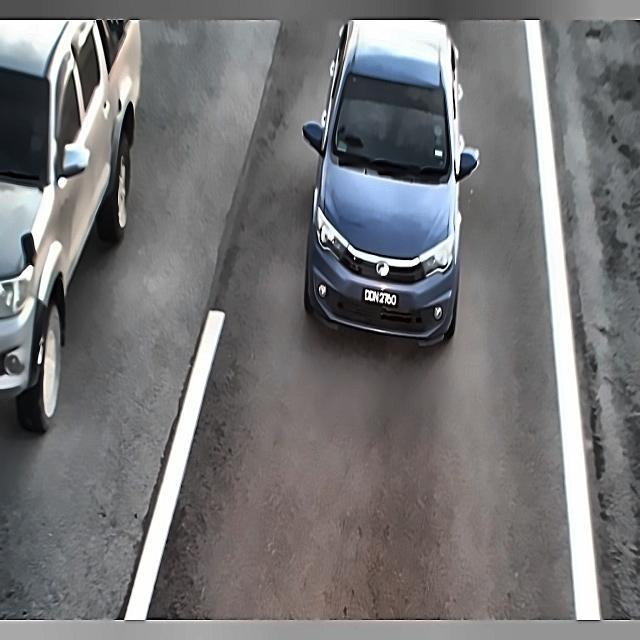car: (357, 283, 404, 318)
